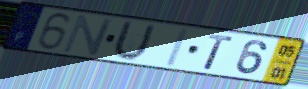6: (34, 11, 74, 52), (235, 39, 268, 76)
I: (162, 27, 192, 69)
N: (60, 14, 116, 57)
T: (202, 33, 235, 72)
U: (109, 19, 158, 62)
